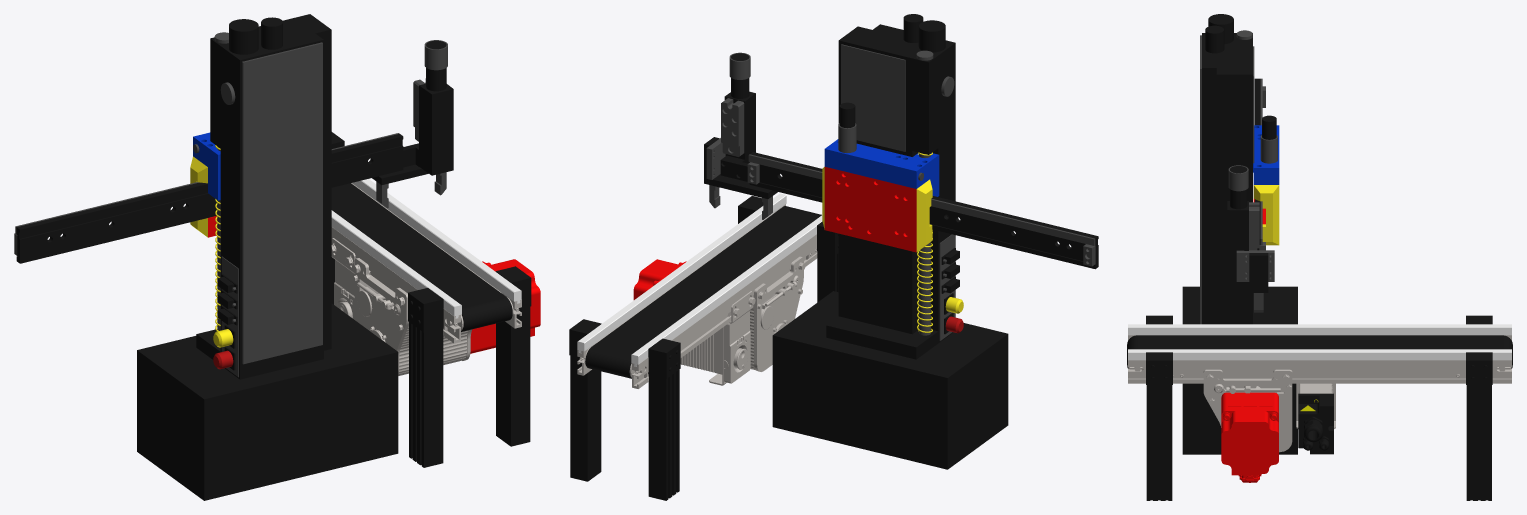
File: Wing_Conveyor_2_Station.glb
3 views of the same model, side by side, from view 1: azimuth 30°, elevation 25°; view 2: azimuth 150°, elevation 25°; view 3: azimuth 270°, elevation 25° (orthographic). The views are drawn at different scales.
Visible parts, largest first — view 1: color.001, color[26].002, color[25].002, color-5[3].001, color-44[7].001, color-43[2].001, color-43[1].001, color-44[2].001, color-44[4].001, color-44[5].001, color-5[7].001, color-44[6].001 (+10 smaller); view 2: color.001, color[25].002, color-44[7].001, color-5[3].001, color-2[7].002, color[24].002, color-43[3].001, color-43.001, color-44[2].001, color-44[4].001, color-2[1].002, color-44[1].001 (+17 smaller); view 3: color[25].002, color-44[1].001, color-44[7].001, color.001, color-44[6].001, color-44[5].001, color-44[4].001, color-43[1].001, color-43.001, color-44[2].001, color-44[10].001, color-5[7].001 (+13 smaller).
Boxes of the visible parts, x1,y1,x2,y2 form: color.001: (137, 303, 398, 500); color[26].002: (242, 42, 322, 364); color[25].002: (210, 14, 331, 365); color-5[3].001: (16, 133, 403, 263); color-44[7].001: (331, 183, 512, 331); color-43[2].001: (408, 288, 443, 467); color-43[1].001: (495, 266, 531, 446); color-44[2].001: (352, 258, 472, 375); color-44[4].001: (352, 179, 521, 303); color-44[5].001: (331, 210, 461, 318); color-5[7].001: (432, 89, 453, 175); color-44[6].001: (470, 259, 540, 353); color.001: (772, 291, 1008, 469); color[25].002: (838, 24, 955, 334); color-44[7].001: (585, 206, 821, 378); color-5[3].001: (749, 152, 1098, 269); color-2[7].002: (824, 167, 916, 252); color[24].002: (841, 44, 905, 151); color-43[3].001: (648, 338, 680, 500); color-43.001: (569, 319, 601, 481); color-44[2].001: (750, 256, 805, 371); color-44[4].001: (577, 193, 786, 352); color-2[1].002: (824, 139, 929, 188); color-44[1].001: (605, 218, 817, 357); color[25].002: (1202, 33, 1252, 324); color-44[1].001: (1173, 360, 1465, 383); color-44[7].001: (1127, 335, 1512, 368); color.001: (1182, 286, 1297, 454); color-44[6].001: (1221, 392, 1278, 482); color-44[5].001: (1128, 324, 1511, 335); color-44[4].001: (1128, 349, 1511, 360); color-43[1].001: (1146, 352, 1172, 500); color-43.001: (1466, 352, 1492, 500); color-44[2].001: (1203, 369, 1292, 452); color-44[10].001: (1298, 393, 1333, 454); color-5[7].001: (1227, 210, 1248, 279).
Size of the model in its own units: 0.7759 by 0.6555 by 0.603.
